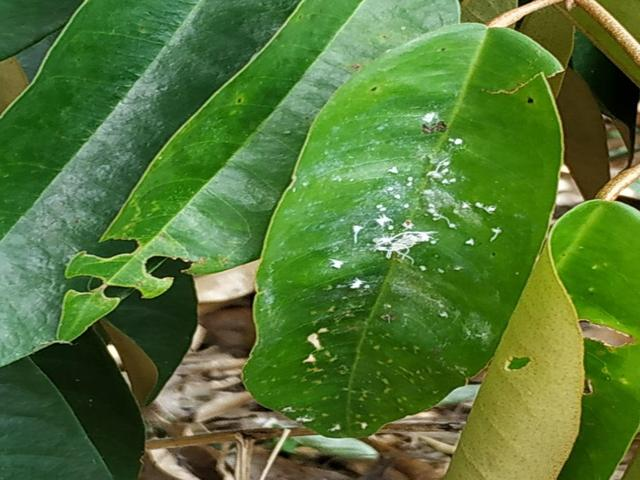blight spot: (59, 229, 196, 311), (566, 312, 635, 402), (500, 349, 539, 376)
